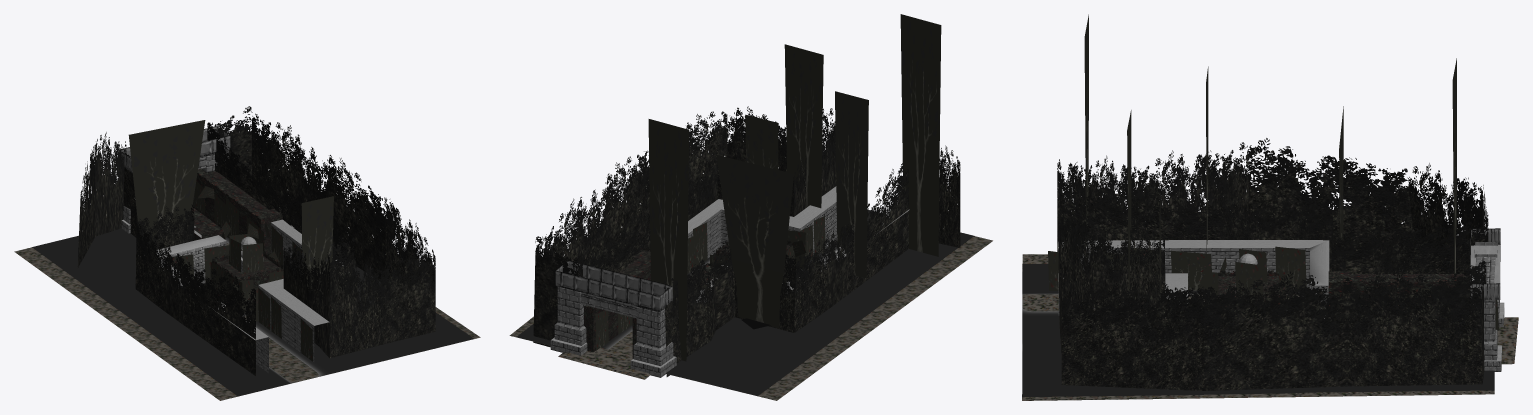
File: cgc_connector2.fbx
3 renders of one model, left to right at view 1: azimuth 30°, elevation 25°; view 2: azimuth 150°, elevation 25°; view 3: azimuth 270°, elevation 25°, orthographic. The views are drawn at different scales.
Visible parts, largest first — view 1: hedge1, groundshadow2, tree_29, groundshadow1, pCube136, pPlane3, polySurface25, polySurface26, pCube141, pCube131, pCube137, pCube142 (+4 smaller); view 2: hedge1, groundshadow2, tree_29, pPlane46, pPlane53, pPlane41, pPlane50, groundshadow1, pCube131, pCube136, rooftower_3, pPlane3 (+8 smaller); view 3: hedge1, groundshadow2, pCube137, groundshadow1, pCube131, pPlane174, polySurface26, pPlane207, pCube141, polySurface25, rooftower_4, pPlane202 (+9 smaller).
Boxes of the visible parts, x1,y1,x2,y2 form: hedge1: [77, 106, 435, 375]; groundshadow2: [32, 225, 473, 396]; tree_29: [128, 120, 205, 241]; groundshadow1: [14, 242, 480, 400]; pCube136: [258, 219, 343, 362]; pPlane3: [301, 196, 333, 305]; polySurface25: [193, 173, 288, 255]; polySurface26: [197, 169, 285, 219]; pCube141: [156, 226, 226, 283]; pCube131: [118, 126, 230, 173]; pCube137: [159, 257, 268, 373]; pCube142: [212, 252, 283, 297]; hedge1: [533, 106, 960, 376]; groundshadow2: [516, 196, 973, 395]; tree_29: [716, 155, 793, 328]; pPlane46: [900, 14, 941, 256]; pPlane53: [648, 119, 689, 361]; pPlane41: [784, 44, 823, 208]; pPlane50: [835, 91, 868, 278]; groundshadow1: [509, 236, 992, 400]; pCube131: [555, 260, 672, 311]; pCube136: [688, 186, 837, 258]; rooftower_3: [581, 292, 673, 365]; pPlane3: [745, 114, 778, 169]; hedge1: [1057, 138, 1488, 390]; groundshadow2: [1022, 264, 1494, 397]; pCube137: [1058, 240, 1327, 288]; groundshadow1: [1022, 254, 1494, 400]; pCube131: [1470, 228, 1500, 300]; pPlane174: [1171, 250, 1211, 290]; polySurface26: [1328, 271, 1470, 282]; pPlane207: [1275, 246, 1306, 290]; pCube141: [1310, 240, 1329, 308]; polySurface25: [1328, 281, 1456, 302]; rooftower_4: [1473, 296, 1497, 360]; pPlane202: [1235, 262, 1263, 295].
Size of what is drawn, in the model's own units: 92.37 by 75.44 by 131.
